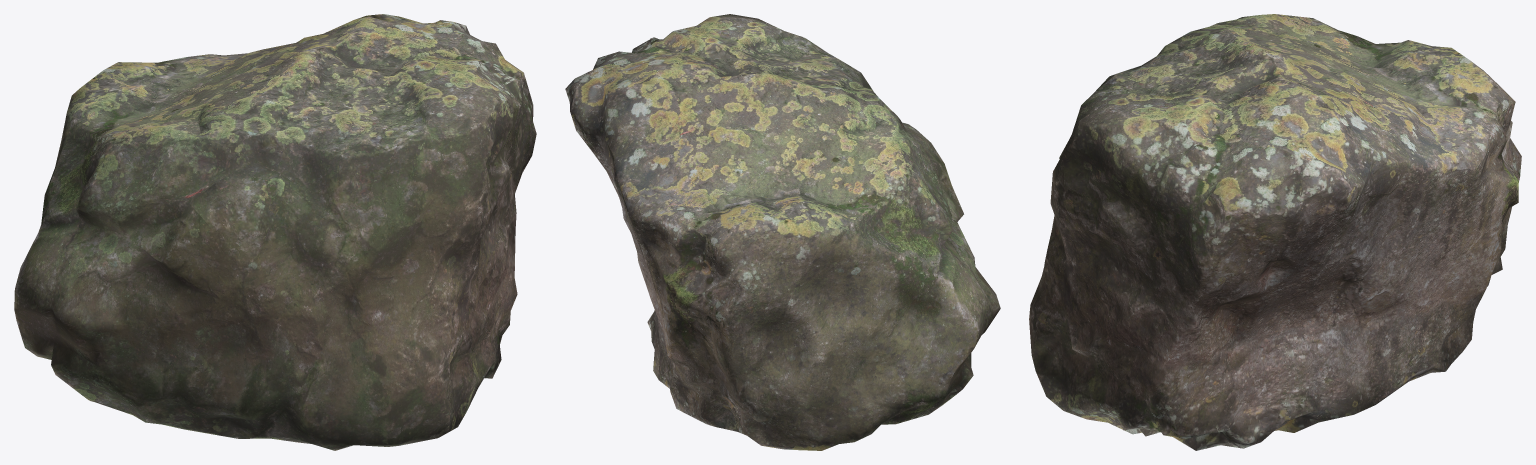
The model's file is SM_RockBoulder_03.fbx.
The picture shows the model from 3 angles, left to right: view 1: azimuth 30°, elevation 25°; view 2: azimuth 150°, elevation 25°; view 3: azimuth 270°, elevation 25°; orthographic projection. The views are drawn at different scales.
Visible parts, largest first — view 1: SM_RockBoulder_03; view 2: SM_RockBoulder_03; view 3: SM_RockBoulder_03.
Part boxes in pixels (x1,y1,x2,y2): SM_RockBoulder_03: [14, 14, 536, 450]; SM_RockBoulder_03: [565, 14, 1000, 450]; SM_RockBoulder_03: [1029, 14, 1521, 450].
Size of the model in its own units: 180 by 156 by 125.
1 material, 1 textured.
